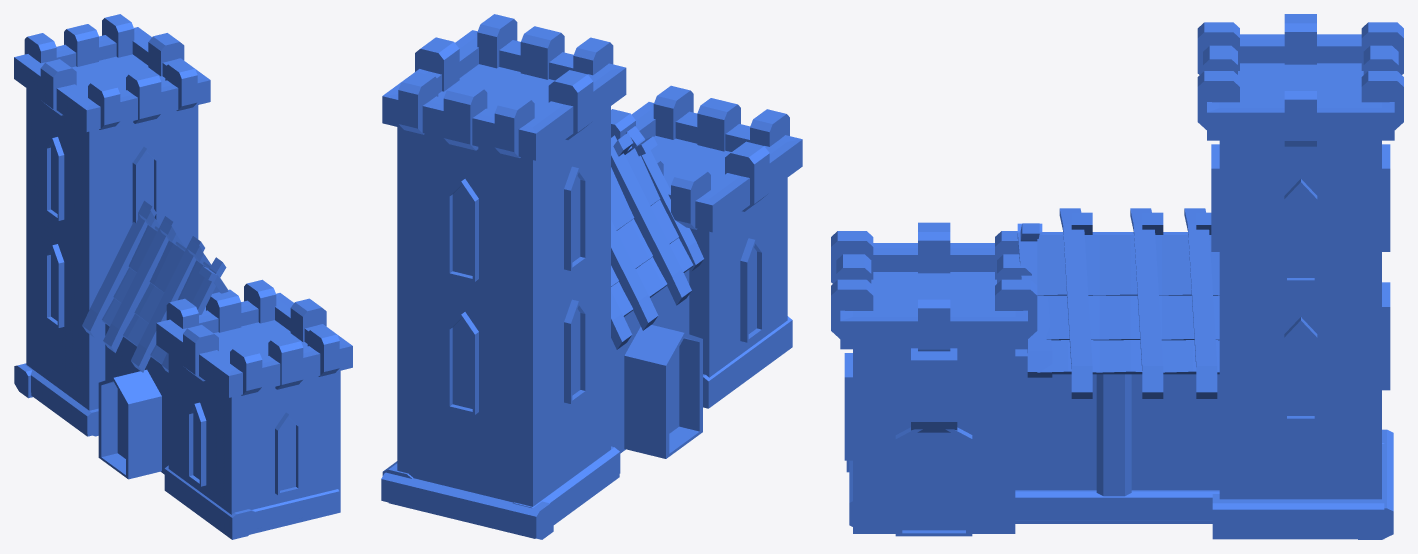
The model's file is Castle_Variant1.fbx.
3 renders of one model, left to right at view 1: azimuth 30°, elevation 25°; view 2: azimuth 150°, elevation 25°; view 3: azimuth 270°, elevation 25°, orthographic. The views are drawn at different scales.
Parts seen in each view (by area): view 1: Castle_Variant1; view 2: Castle_Variant1; view 3: Castle_Variant1.
Part boxes in pixels (<box>): Castle_Variant1: <box>14,14,352,539</box>; Castle_Variant1: <box>381,14,802,539</box>; Castle_Variant1: <box>831,14,1403,539</box>.
Size of the model in its own units: 255 by 608 by 705.
